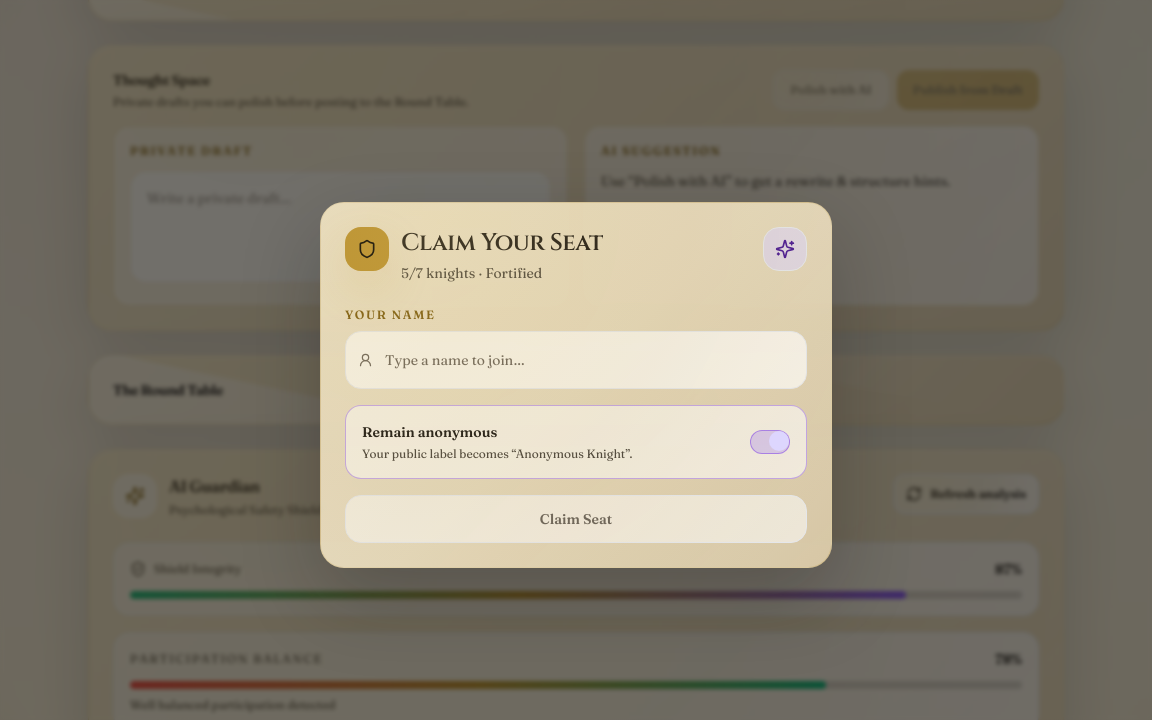
Test: room provides a thought space draft that can be published
(page scrolled)
Expected: the heading "Claim Your Seat" is shown, [401,227,603,259]
Step 1. Type "Alice" into the field labelled "YOUR NAME" → [590, 360], box [385,340,794,380]
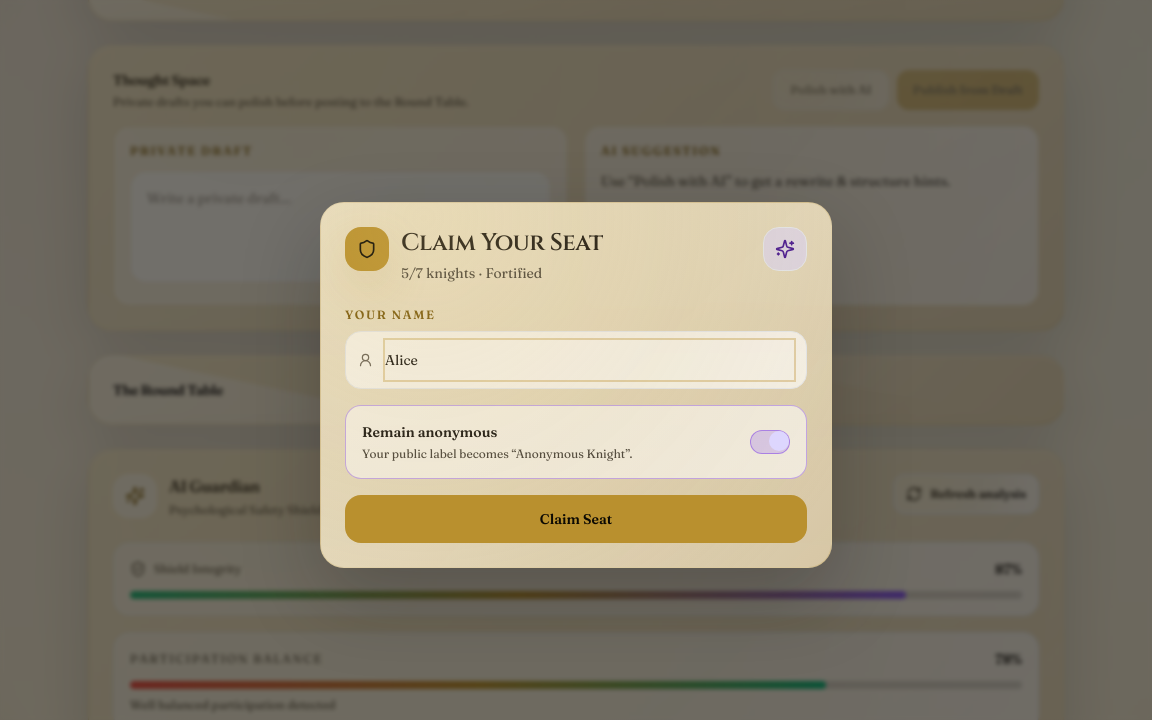
Step 2. Click the button "Claim Seat" → [576, 519], box [345,495,807,543]
(page scrolled)
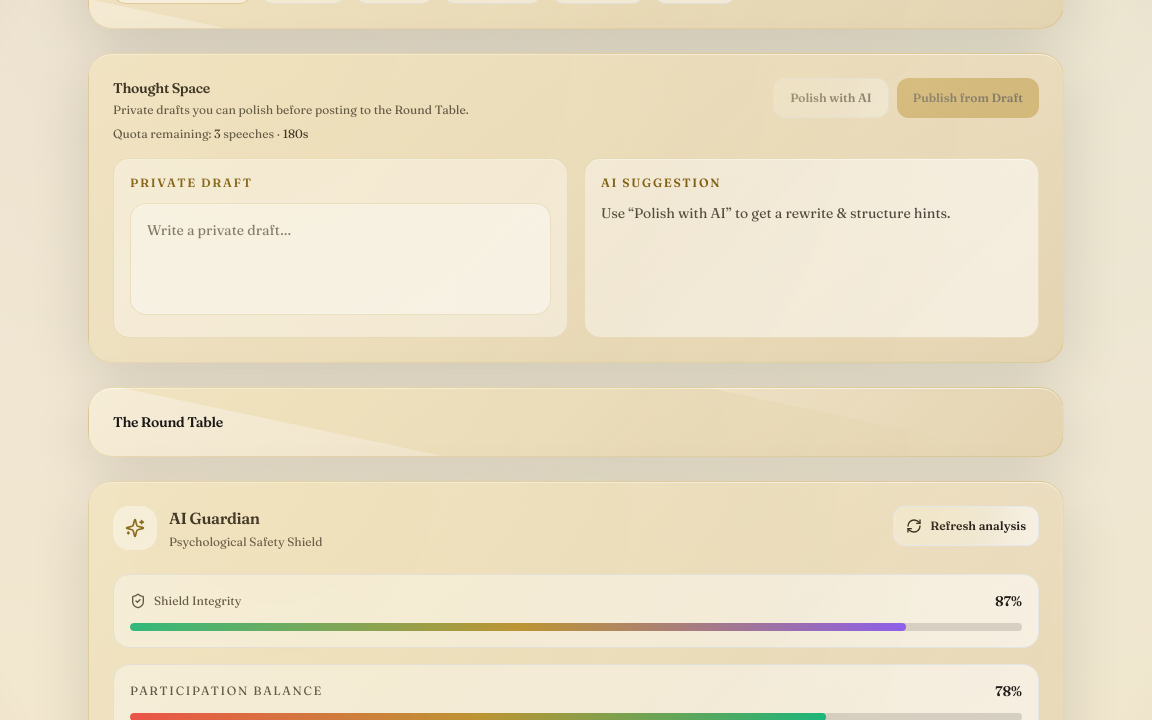
Expected: the heading "Thought Space" is shown, [113,79,210,97]
Step 3. Type "My draft idea" into the text box labelled "Write a private draft…" → [340, 259], box [130,203,551,315]
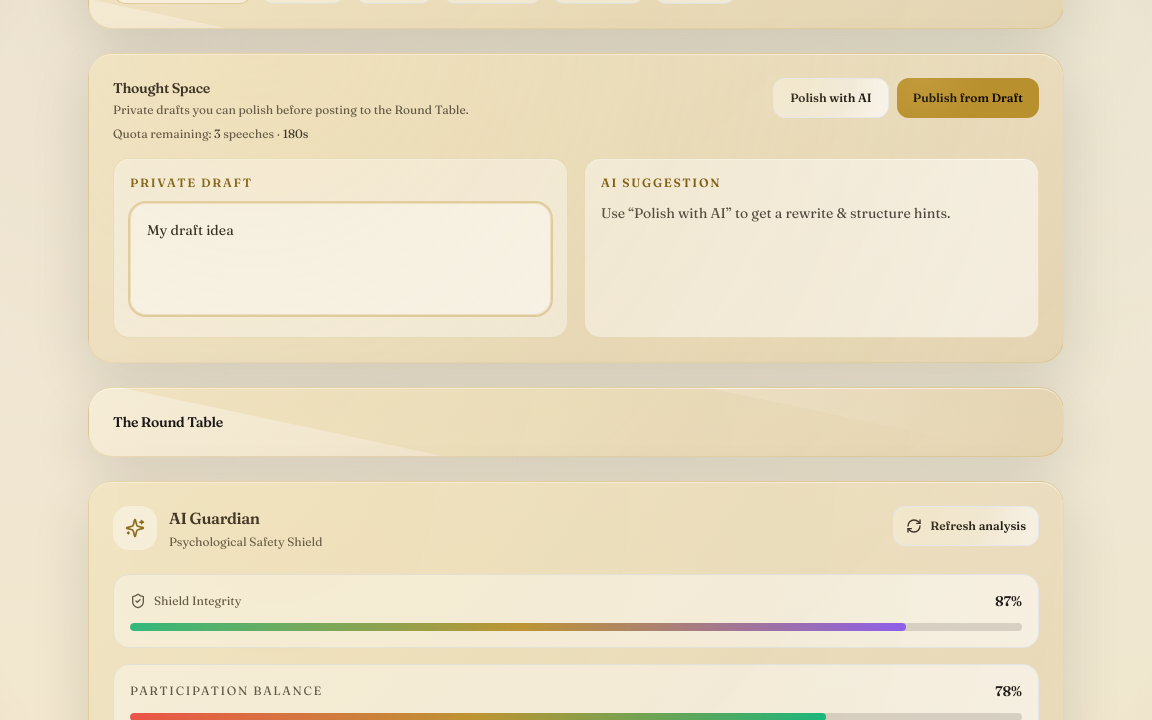
Step 4. Click the button "Publish from Draft" → [968, 98], box [897,78,1039,118]
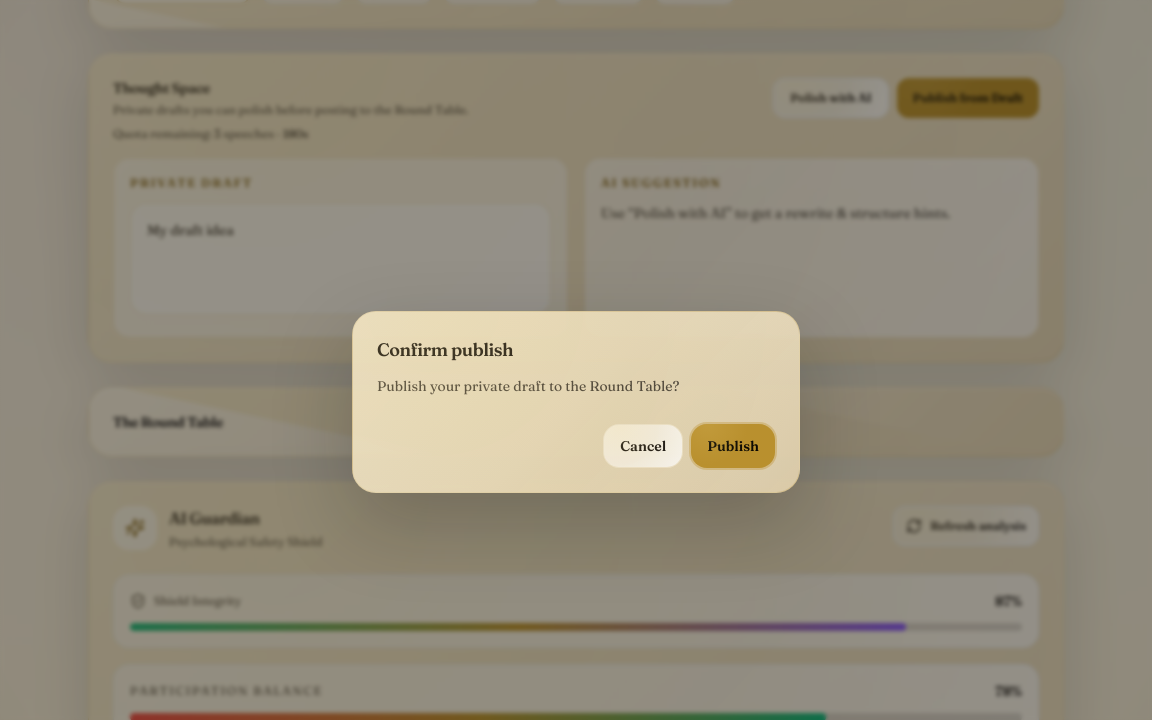
Step 5. Click the button "Publish" → [733, 446], box [691,424,775,468]
(page scrolled)
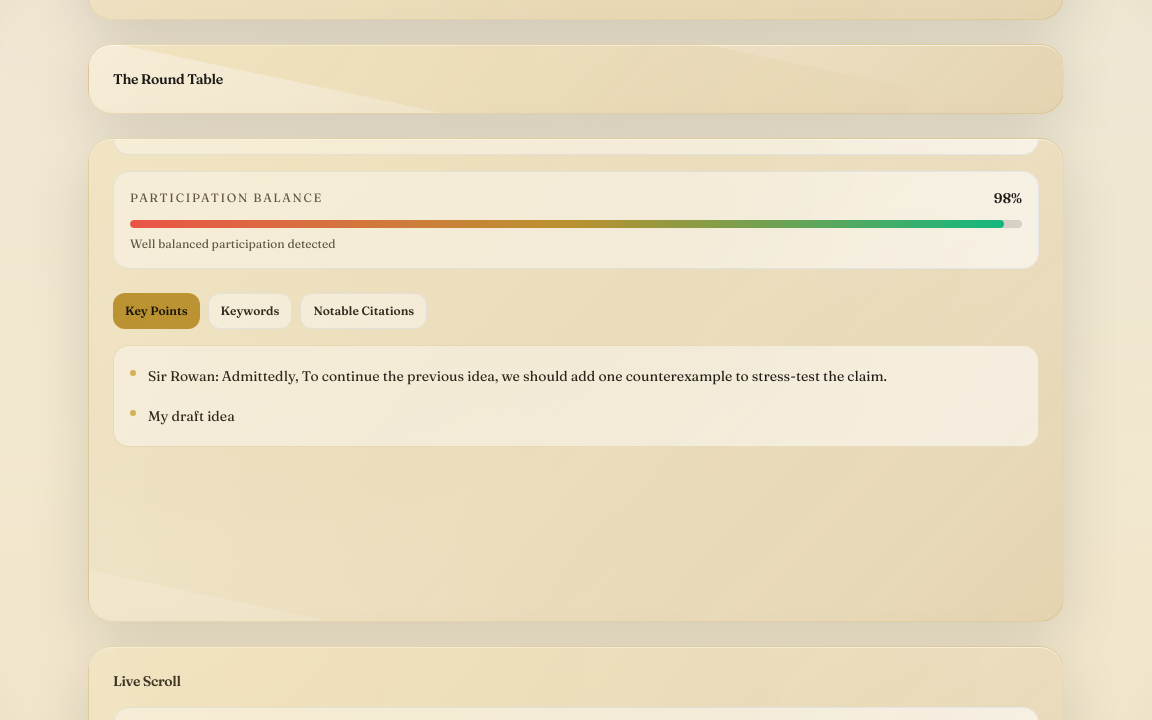
Expected: the text "My draft idea" is shown, [148,402,235,430]
